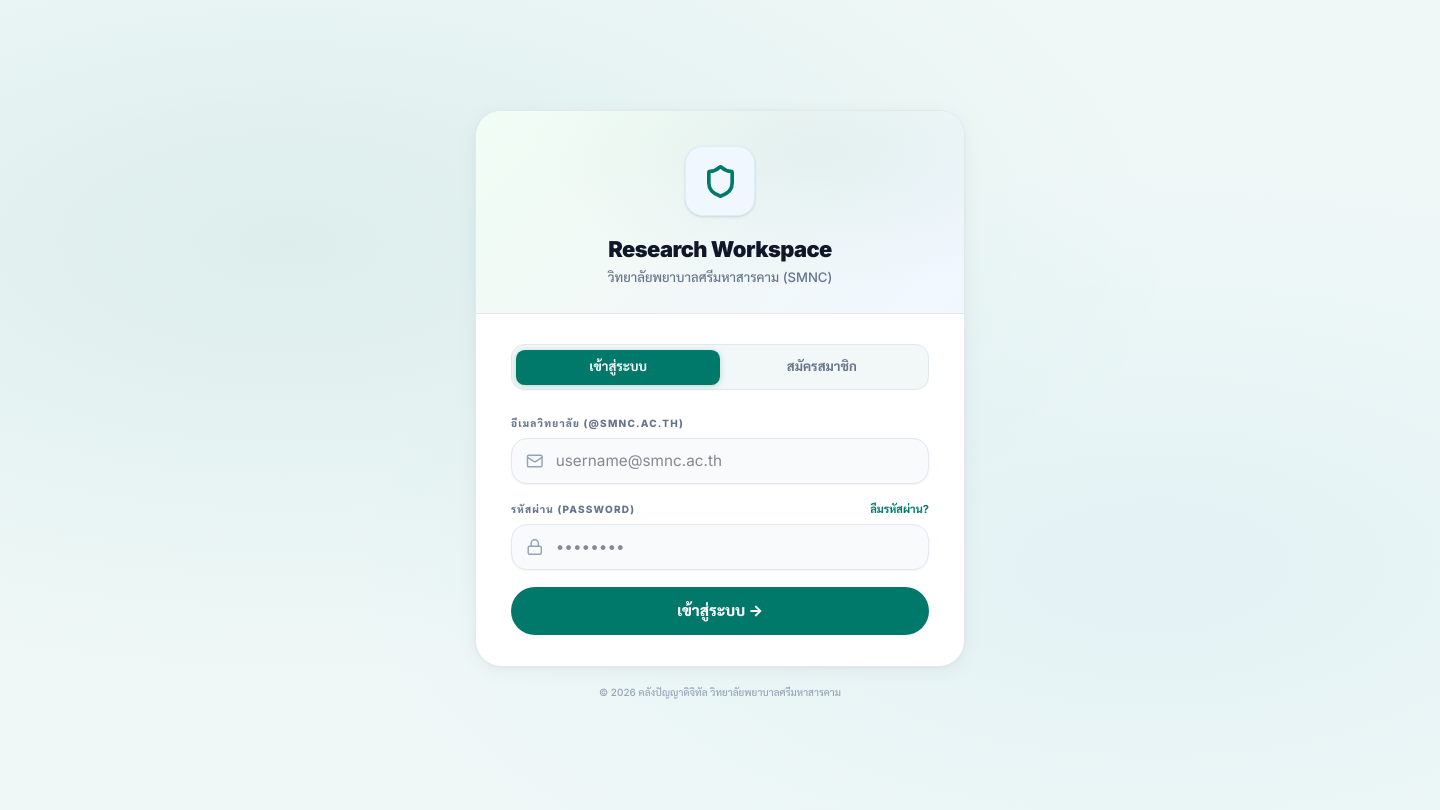
Test: AuthScreen component (Login & Registration Flow) › switches to registration tab and validates @smnc.ac.th email domain restriction
This screenshot has width=1440, height=810.
# Switch to Register tab
Click the button "สมัครสมาชิก" at {"x": 822, "y": 367}, box [720,350,924,385]
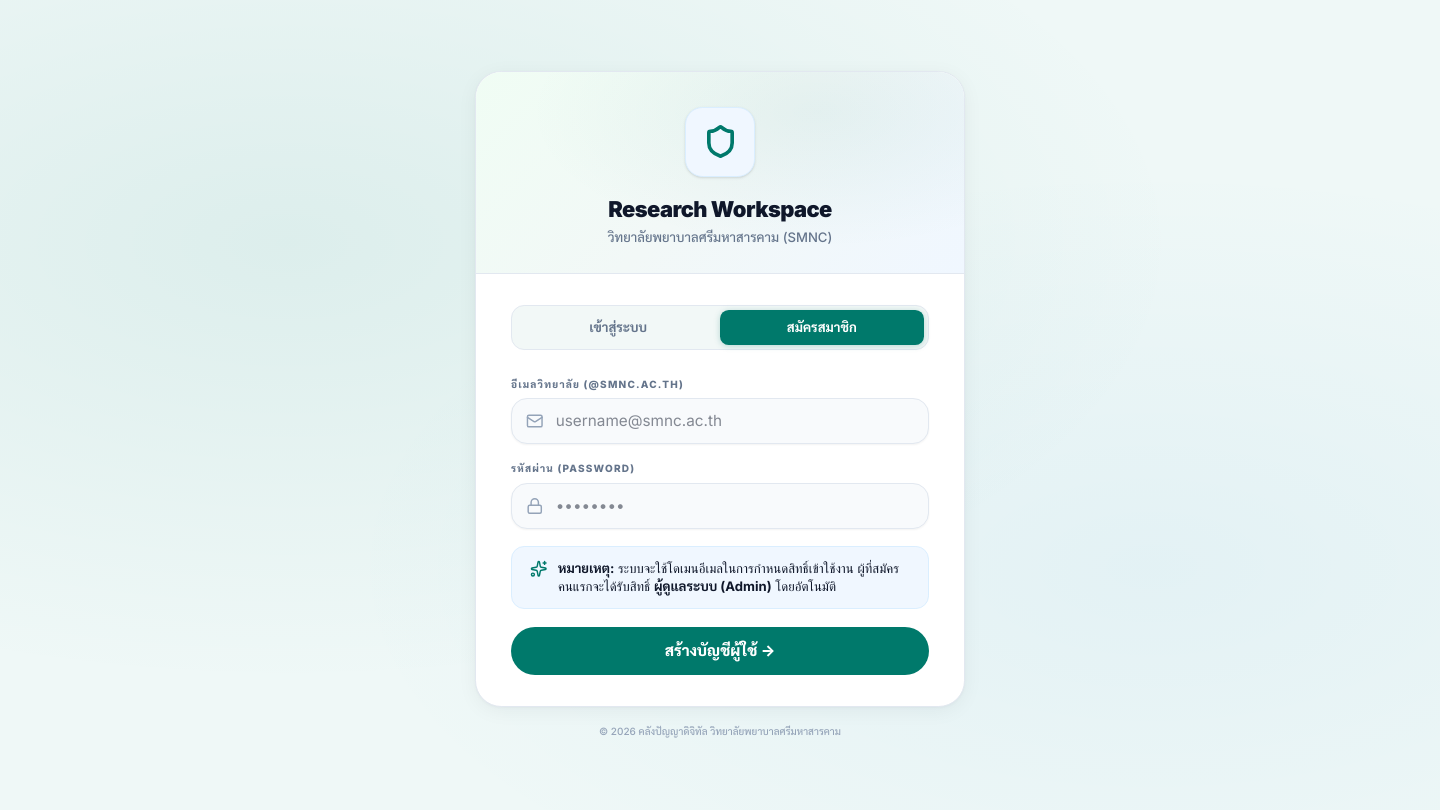
Expected: the button "สร้างบัญชีผู้ใช้ →" is shown, [511,627,929,675]
Expected: the text "ผู้ที่สมัครคนแรกจะได้รับสิทธิ์" is shown, [558,560,899,594]
# Try submitting with external gmail address
Type "someuser@gmail.com" into the field with placeholder "username@smnc.ac.th" at {"x": 720, "y": 421}, box [511,398,929,444]
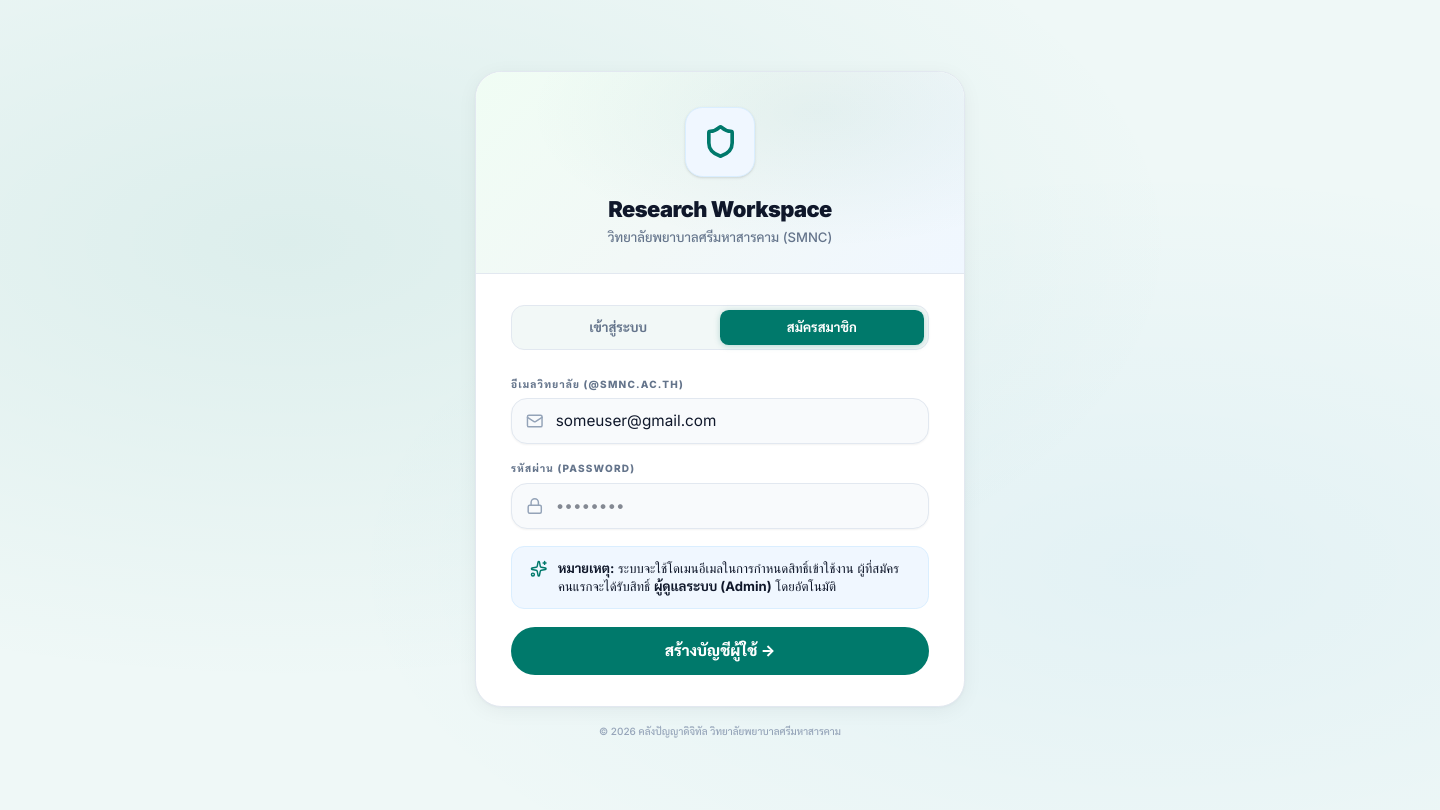
Type "password123" into the password field with placeholder "••••••••" at {"x": 720, "y": 506}, box [511,483,929,529]
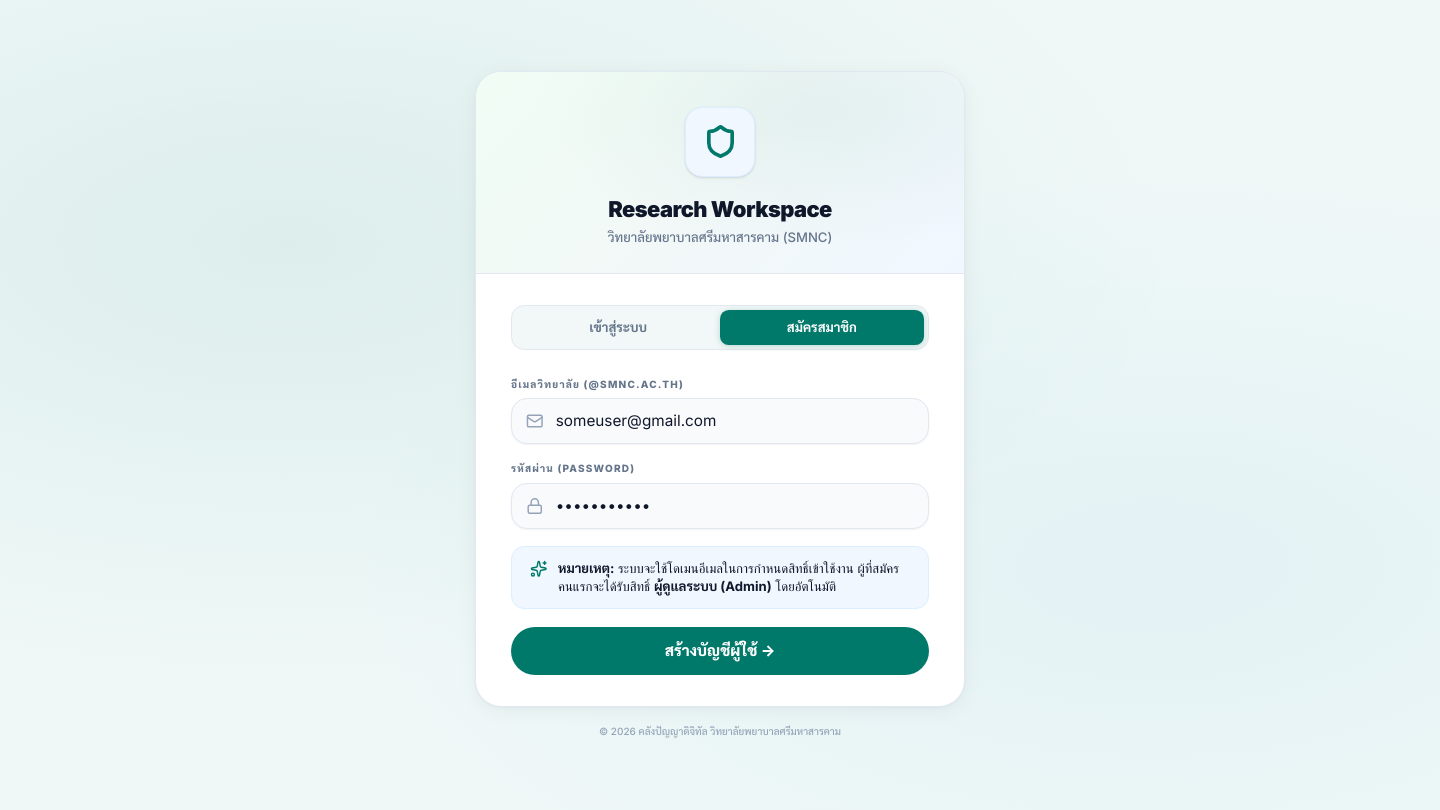
Click the button "สร้างบัญชีผู้ใช้ →" at {"x": 720, "y": 651}, box [511,627,929,675]
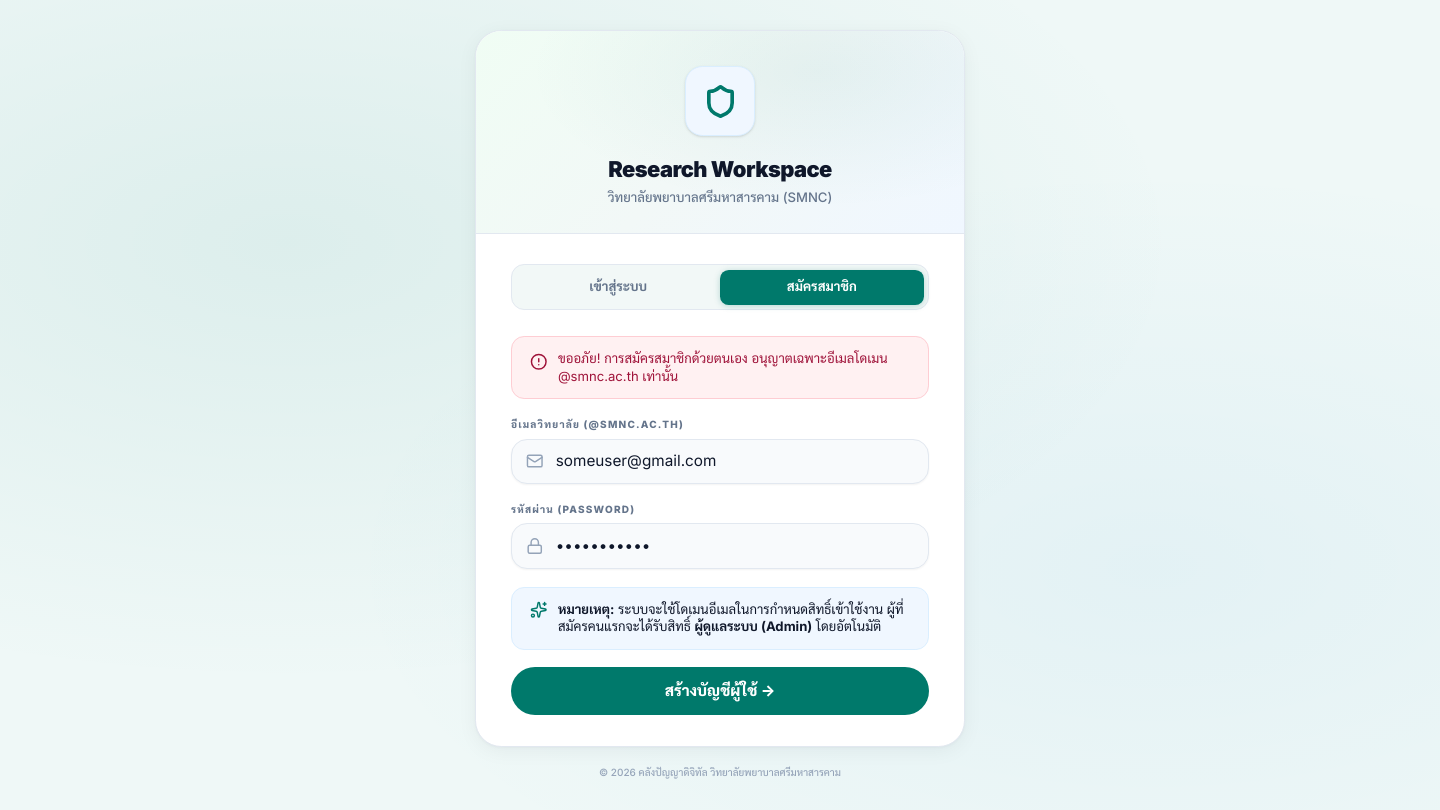
Expected: the text "ขออภัย! การสมัครสมาชิกด้วยตนเอง อนุญาตเฉพาะอีเมลโดเมน @smnc.ac.th เท่านั้น" is shown, [558,350,910,385]
